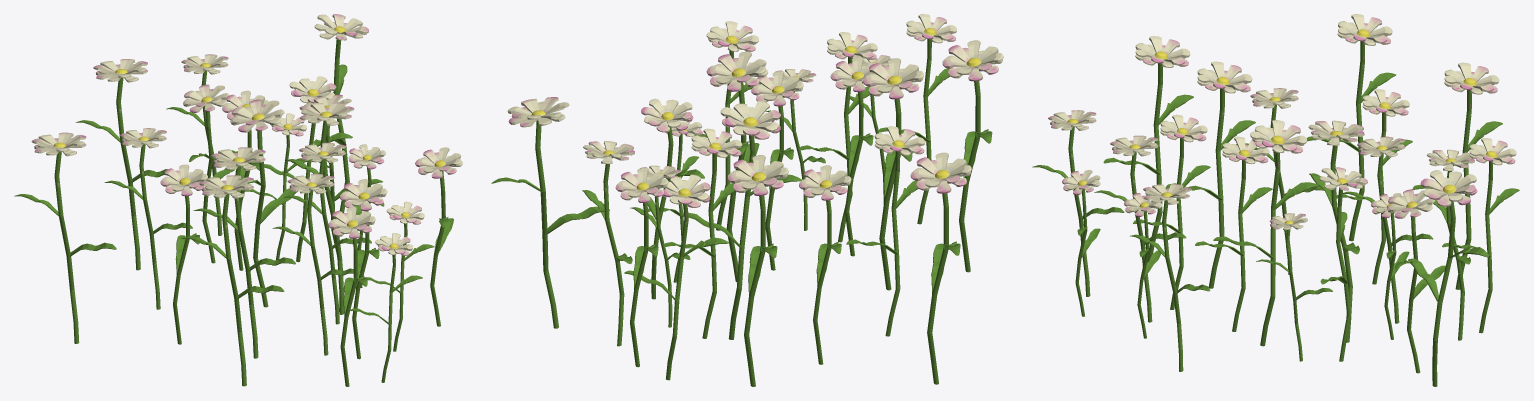
Rendered from Flowers.obj.
3 views of the same model, side by side, from view 1: azimuth 30°, elevation 25°; view 2: azimuth 150°, elevation 25°; view 3: azimuth 270°, elevation 25° (orthographic). The views are drawn at different scales.
Visible parts, largest first — view 1: Cylinder.049_Cylinder.247; view 2: Cylinder.049_Cylinder.247; view 3: Cylinder.049_Cylinder.247.
Part boxes in pixels (left/top/right/bottom): Cylinder.049_Cylinder.247: left=14, top=14, right=462, bottom=386; Cylinder.049_Cylinder.247: left=491, top=14, right=1003, bottom=386; Cylinder.049_Cylinder.247: left=1032, top=14, right=1519, bottom=386.
Size of the model in its own units: 1.28 by 0.7299 by 1.4.
1 material, 1 textured.
